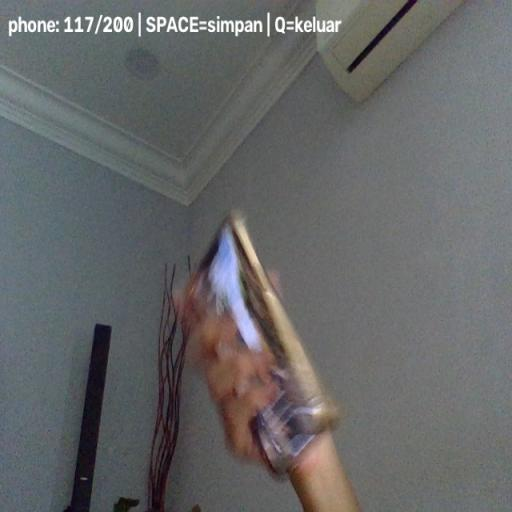Phone: (184, 212, 343, 480)
